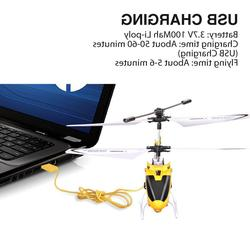drone: (62, 99, 249, 222)
